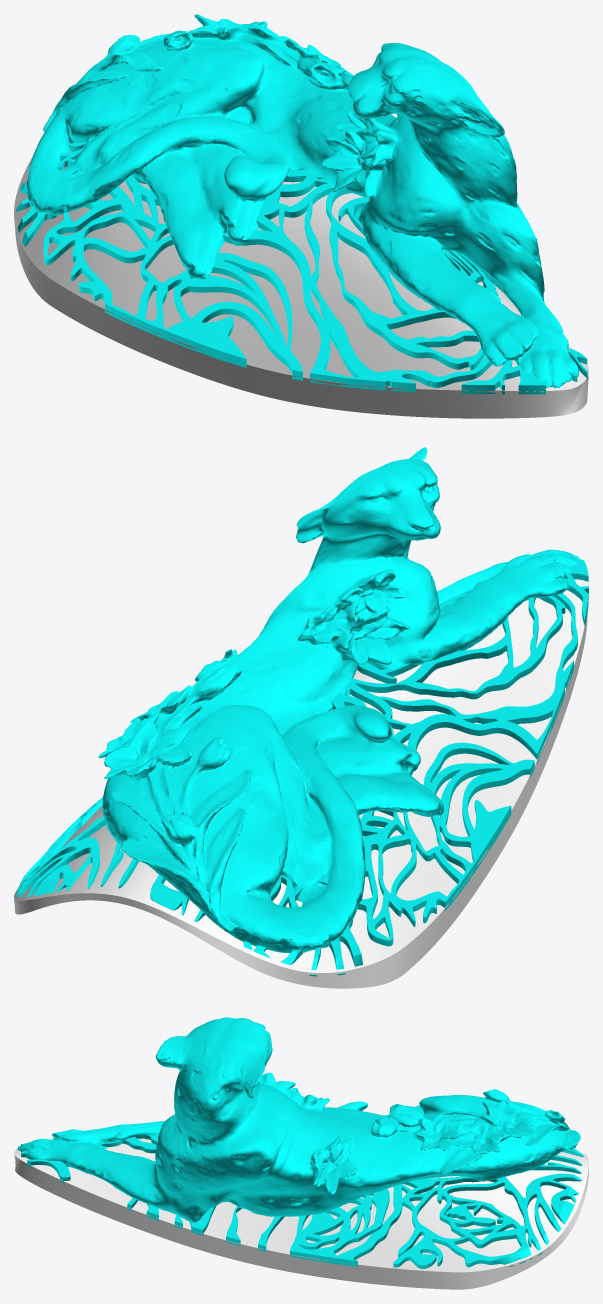
The model's file is leopard-rose-stiletto-full.glb.
The picture shows the model from 3 angles, top to bottom: view 1: azimuth 30°, elevation 25°; view 2: azimuth 150°, elevation 25°; view 3: azimuth 270°, elevation 25°; orthographic projection. The views are drawn at different scales.
Bounding box in the file's own units: 0.0139 × 0.0125 × 0.0301.
